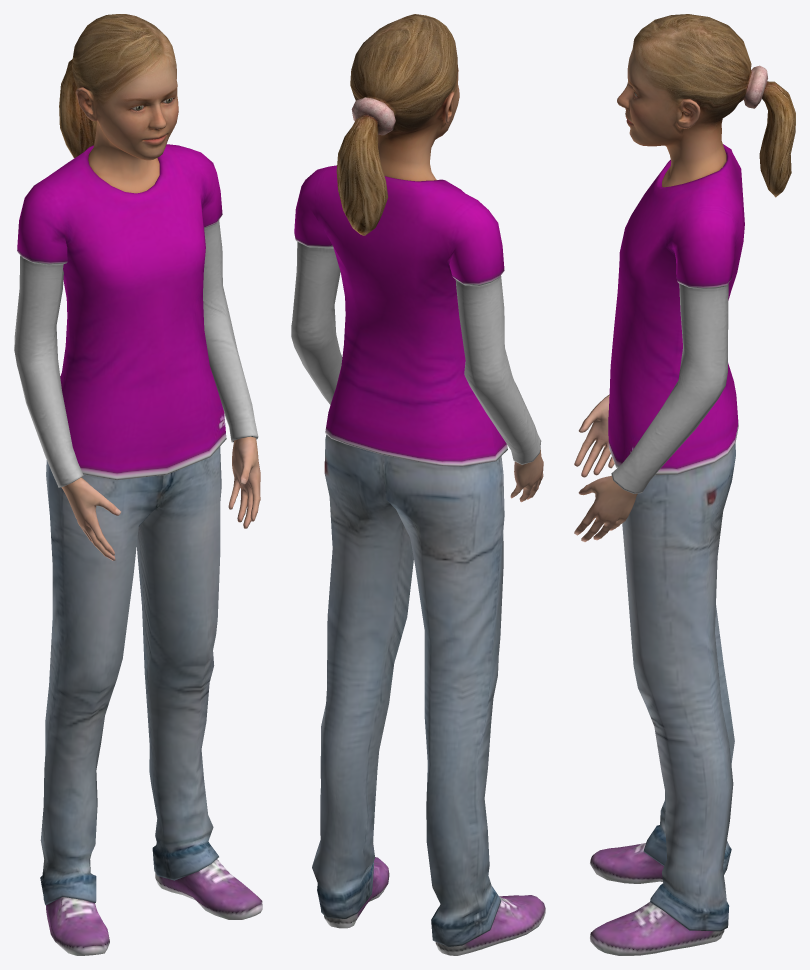
Rendered from female_child_01.glb.
3 renders of one model, left to right at view 1: azimuth 30°, elevation 25°; view 2: azimuth 150°, elevation 25°; view 3: azimuth 270°, elevation 25°, orthographic. The views are drawn at different scales.
Visible parts, largest first — view 1: Female_Child_01; view 2: Female_Child_01; view 3: Female_Child_01.
Boxes of the visible parts, x1,y1,x2,y2 form: Female_Child_01: [14, 14, 262, 955]; Female_Child_01: [291, 14, 545, 955]; Female_Child_01: [574, 14, 795, 955].
Size of the model in its own units: 0.351 by 1.43 by 0.3233.
2 materials, 2 textured.
